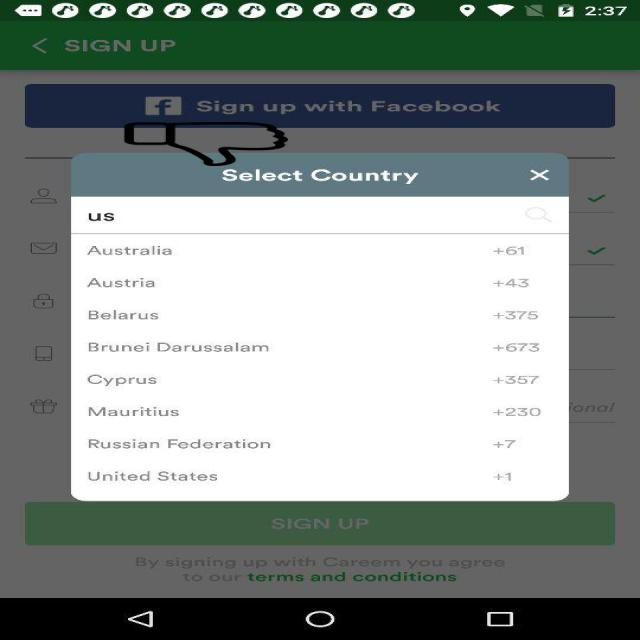obstruction: (122, 122, 290, 166)
